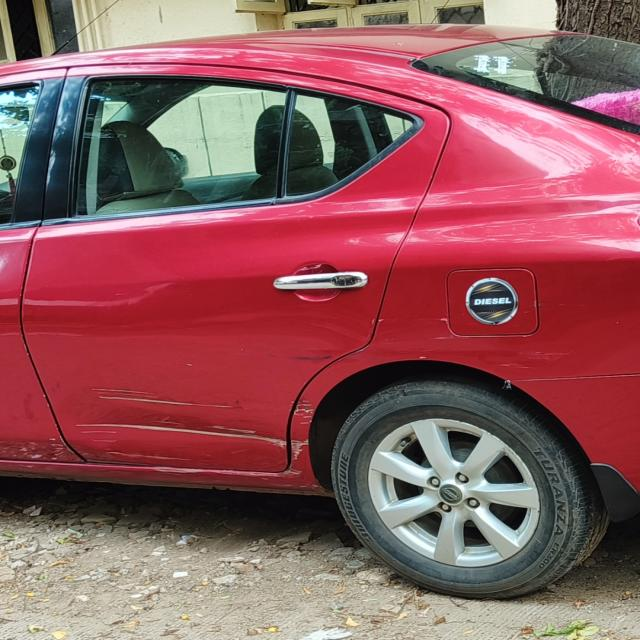scratch: (64, 419, 280, 467), (89, 386, 236, 408), (362, 314, 444, 340), (493, 346, 576, 371), (292, 401, 314, 426), (290, 438, 307, 458), (293, 354, 330, 362)
